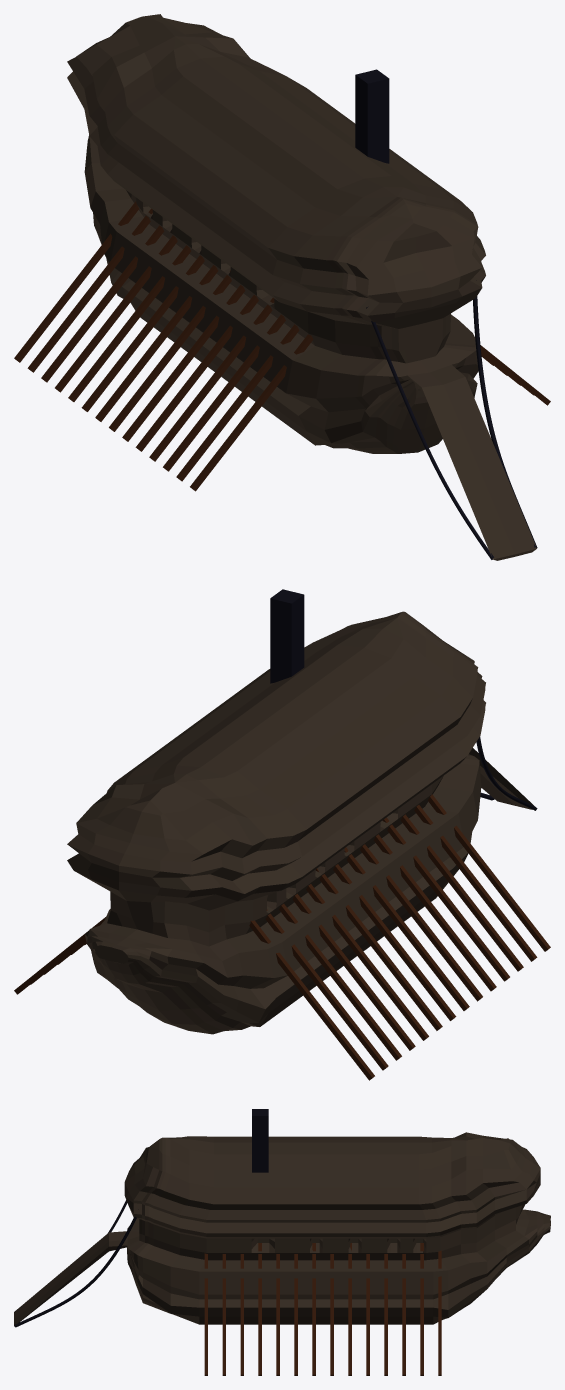
Rendered from Settelement.fbx.
The picture shows the model from 3 angles, top to bottom: view 1: azimuth 30°, elevation 25°; view 2: azimuth 150°, elevation 25°; view 3: azimuth 270°, elevation 25°; orthographic projection. The views are drawn at different scales.
Parts seen in each view (by area): view 1: Rumpf, LeftReling, Schornstein, NurbsPath, LeftReling.001; view 2: Rumpf, LeftReling, Schornstein, LeftReling.001; view 3: Rumpf, LeftReling.001, Schornstein, NurbsPath.
Boxes of the visible parts, box(x1,y1,x2,y2) form: Rumpf: box(67, 14, 536, 560); LeftReling: box(14, 201, 313, 491); Schornstein: box(355, 69, 389, 163); NurbsPath: box(366, 280, 537, 559); LeftReling.001: box(480, 345, 550, 405); Rumpf: box(67, 611, 534, 1034); LeftReling: box(249, 794, 550, 1080); Schornstein: box(270, 589, 304, 683); LeftReling.001: box(14, 917, 105, 994); Rumpf: box(14, 1132, 550, 1326); LeftReling.001: box(204, 1243, 441, 1375); Schornstein: box(252, 1109, 268, 1172); NurbsPath: box(14, 1200, 138, 1327).
Bounding box in the file's own units: 3328 × 2965 × 6490.
